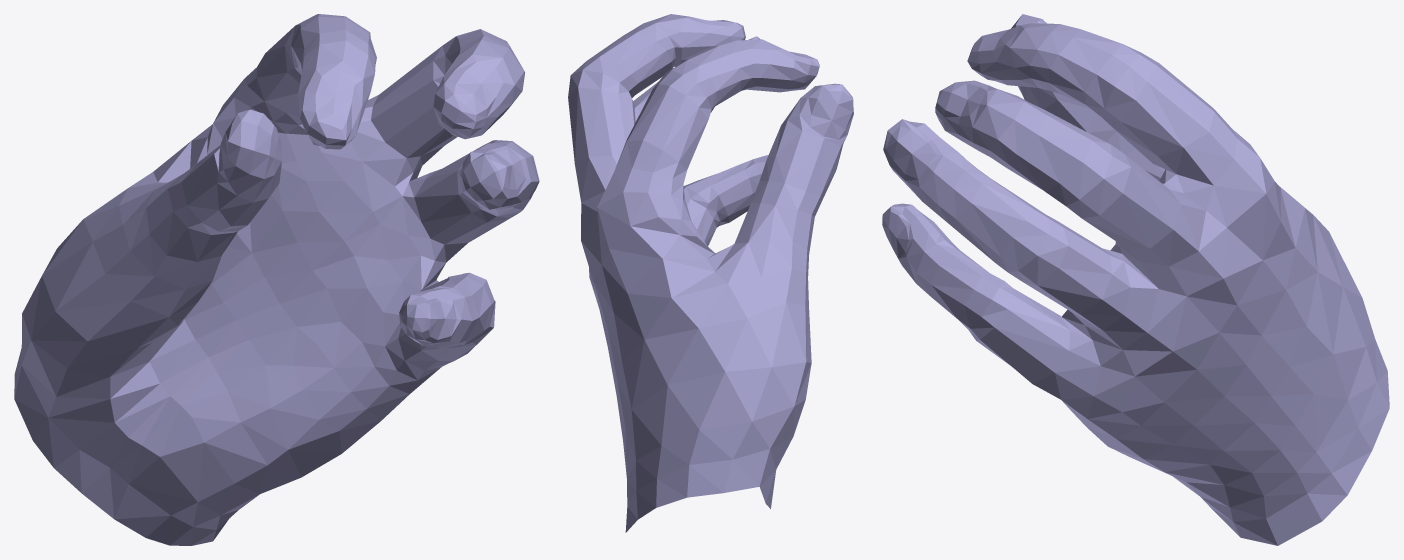
The model's file is hand_0100.glb.
3 views of the same model, side by side, from view 1: azimuth 30°, elevation 25°; view 2: azimuth 150°, elevation 25°; view 3: azimuth 270°, elevation 25° (orthographic). The views are drawn at different scales.
Parts seen in each view (by area): view 1: world; view 2: world; view 3: world.
Boxes of the visible parts, x1=… form: world: x1=14, y1=14, x2=539, y2=545; world: x1=568, y1=14, x2=853, y2=532; world: x1=882, y1=14, x2=1389, y2=545.
Size of the model in its own units: 0.099 by 0.1398 by 0.124.
